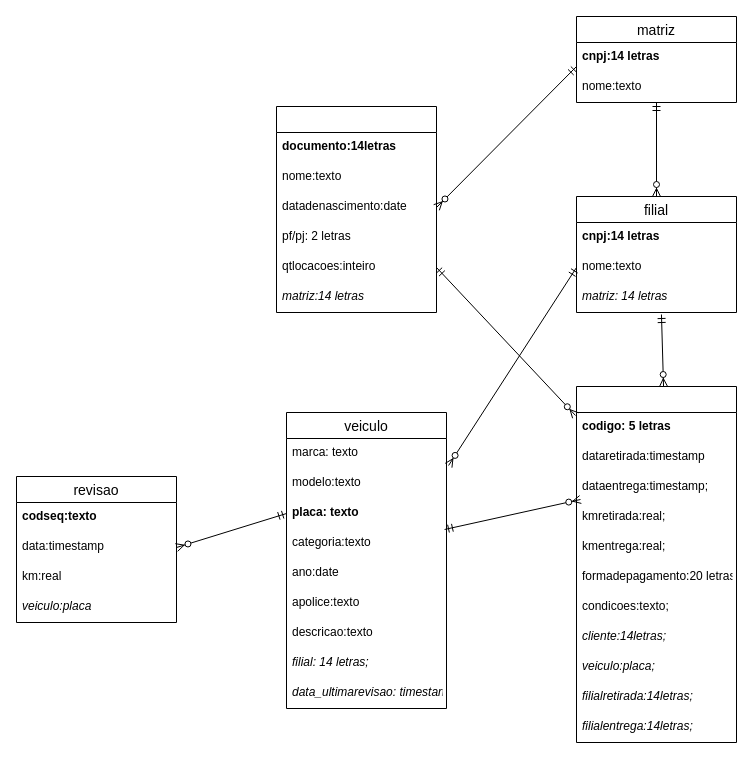
Some shapes in this 755 by 759 pixel diagram are drawn without their labels. The box of each missing label's shape, as (x1, y1, x2, y2) in pixels:
cliente: (276, 106, 436, 312)
locacao: (576, 386, 736, 742)
